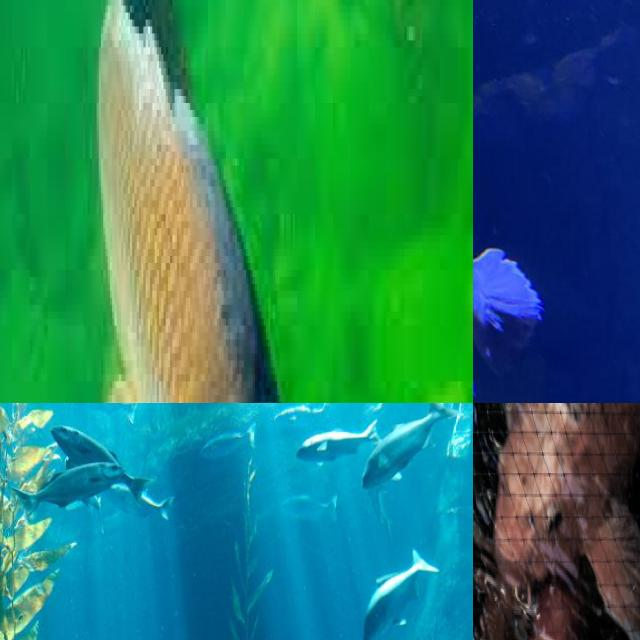fish: (0, 0, 473, 403), (473, 45, 546, 383)
